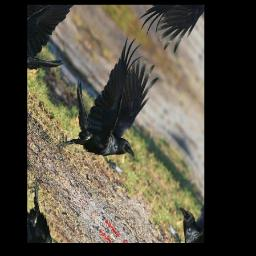Crow: (43, 16, 181, 205)
